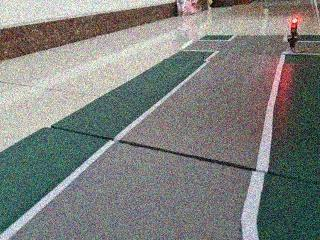red: (284, 11, 305, 48)
